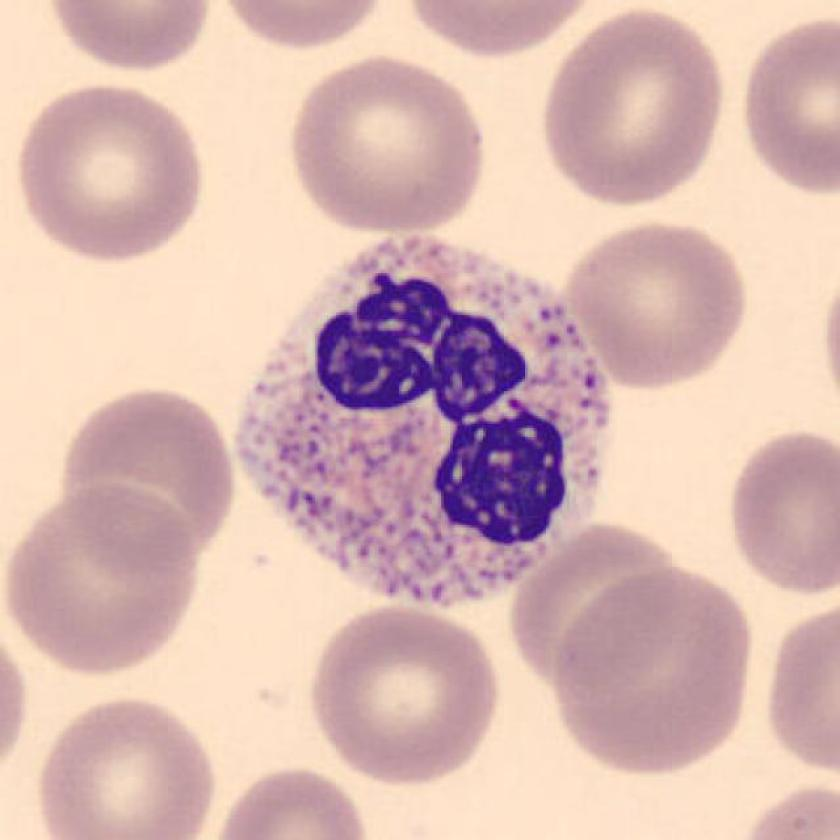neutrophil: (237, 235, 605, 593)
